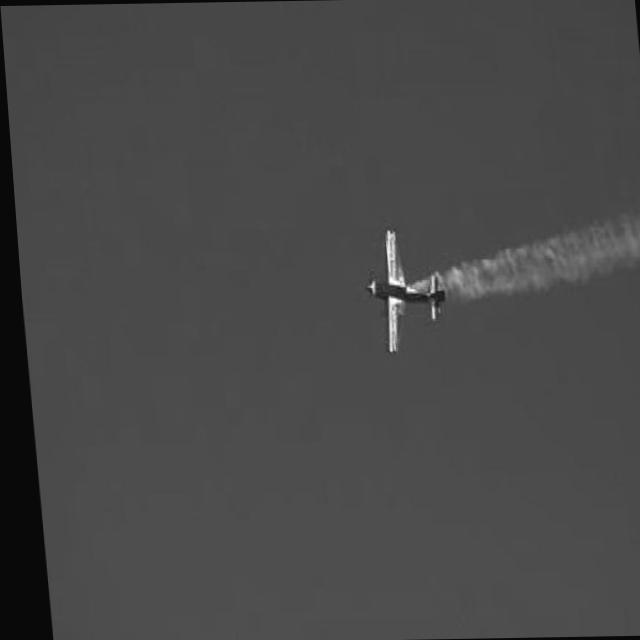aeroplane: (353, 226, 453, 358)
